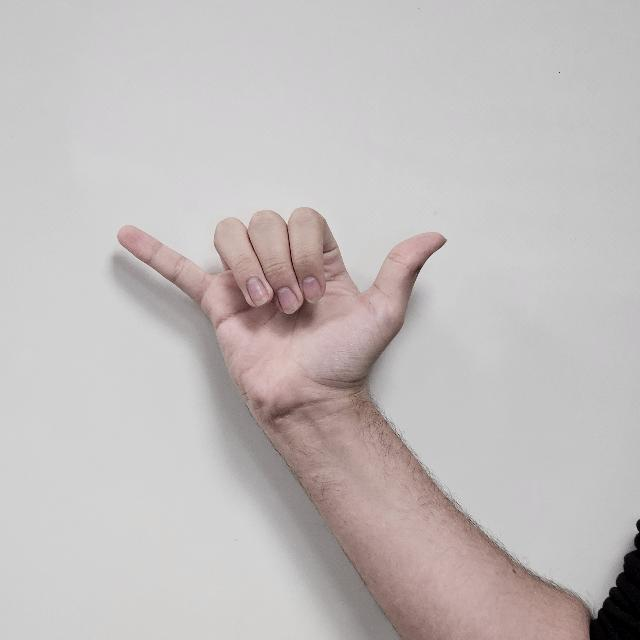Direita: (118, 206, 458, 447)
